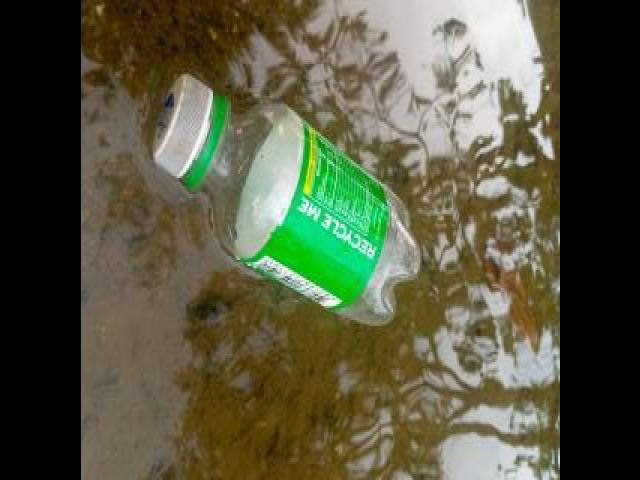Bottle: (146, 66, 426, 334)
